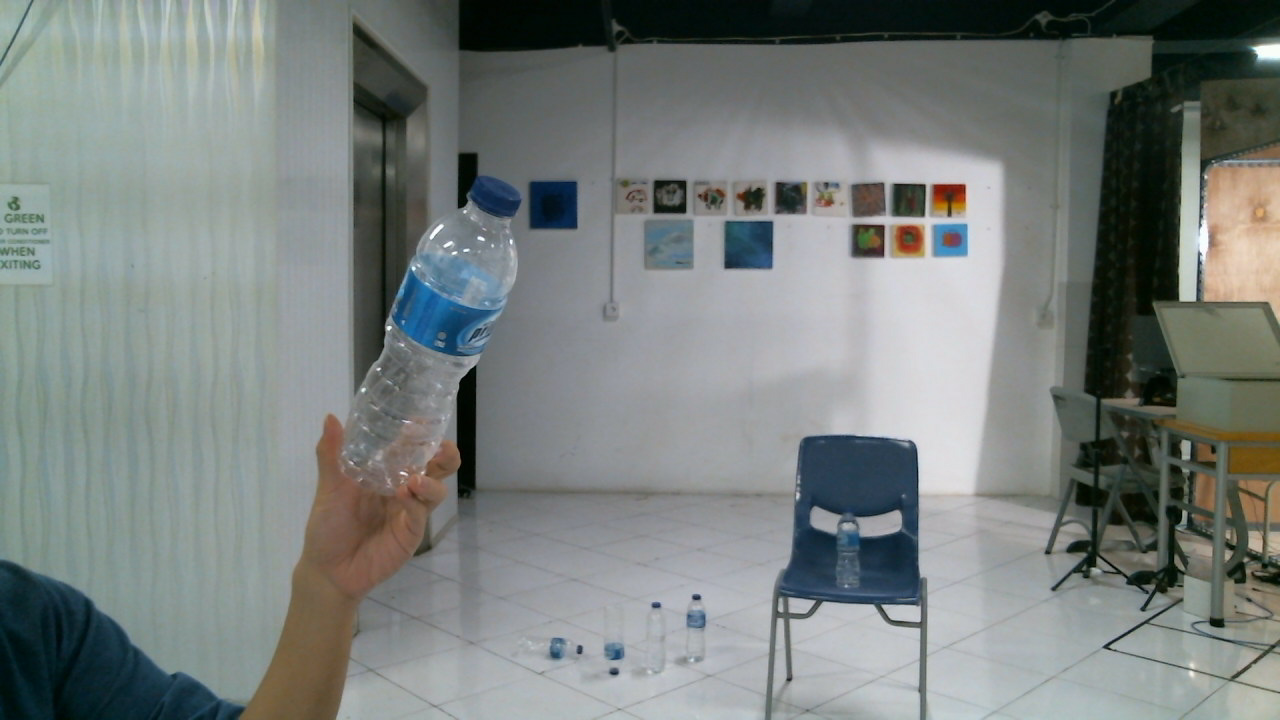Bottle: (337, 182, 523, 496)
